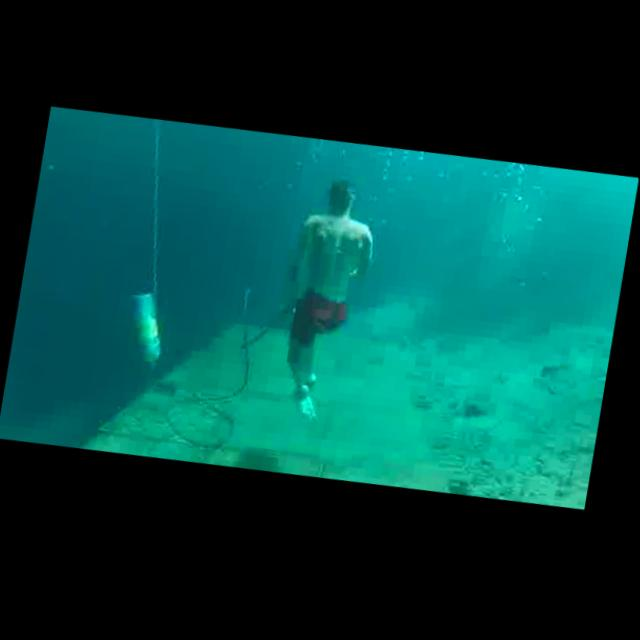human: (263, 173, 392, 436)
